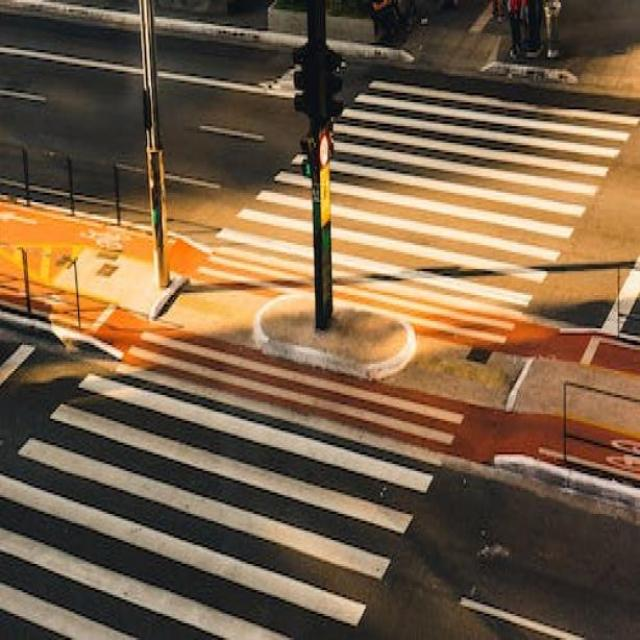pedestrian lane: (0, 74, 638, 640)
